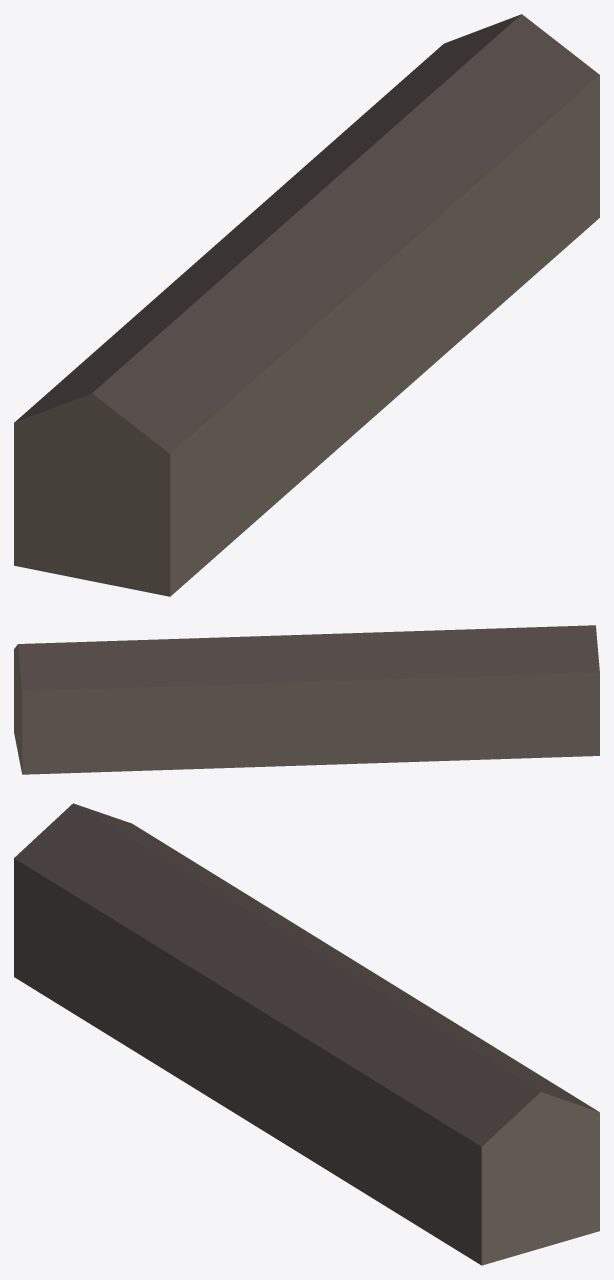
The picture shows the model from 3 angles, top to bottom: view 1: azimuth 30°, elevation 25°; view 2: azimuth 150°, elevation 25°; view 3: azimuth 270°, elevation 25°; orthographic projection. The views are drawn at different scales.
Visible parts, largest first — view 1: HP-w1287055052; view 2: HP-w1287055052; view 3: HP-w1287055052.
Part boxes in pixels (x1,y1,x2,y2): HP-w1287055052: (14,14,599,596); HP-w1287055052: (14,625,599,774); HP-w1287055052: (14,803,599,1265).
Bounding box in the file's own units: 35.01 × 7.9 × 26.82.
